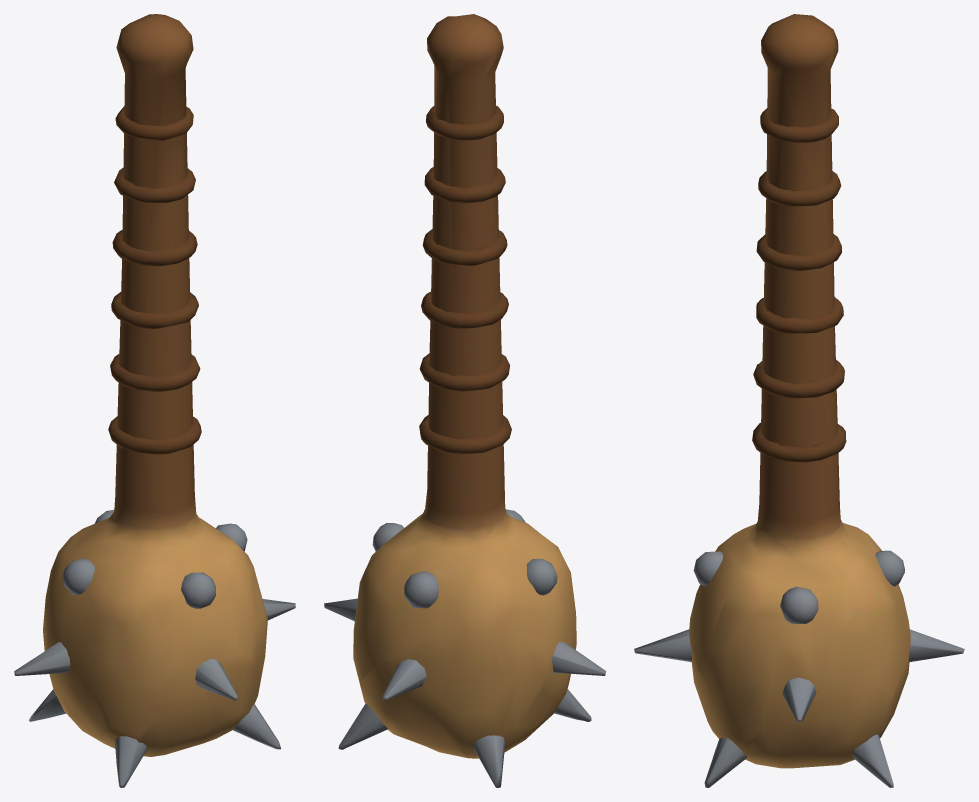
The model's file is club.glb.
3 views of the same model, side by side, from view 1: azimuth 30°, elevation 25°; view 2: azimuth 150°, elevation 25°; view 3: azimuth 270°, elevation 25° (orthographic).
Visible parts, largest first — view 1: wood; view 2: wood; view 3: wood.
Part boxes in pixels (bbox=[...]): wood: bbox=[14, 14, 295, 787]; wood: bbox=[324, 14, 605, 787]; wood: bbox=[634, 14, 964, 787].
Bounding box in the file's own units: 0.2843 × 0.6958 × 0.2843.
1 material, 1 textured.
